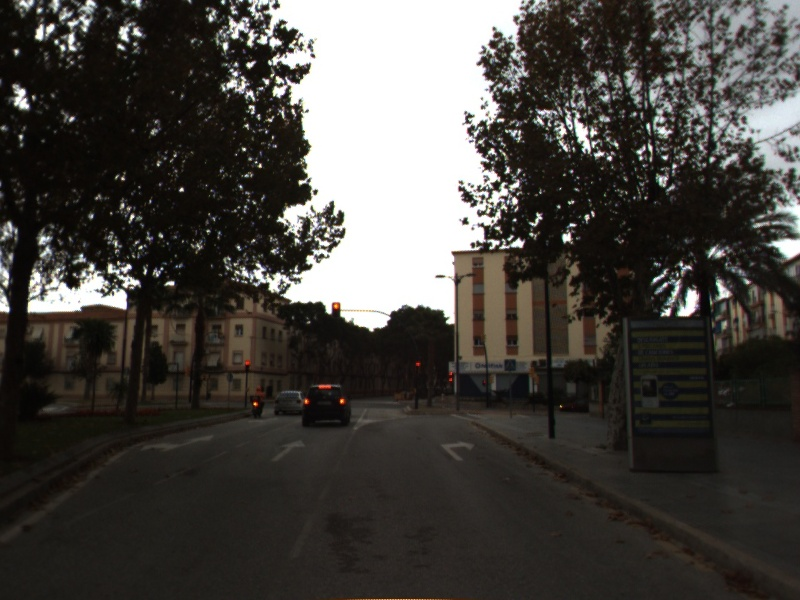RIGHT: (437, 437, 478, 463)
STRAIGHT: (267, 437, 308, 464)
STRAIGHT_LEFT: (137, 432, 217, 454)
